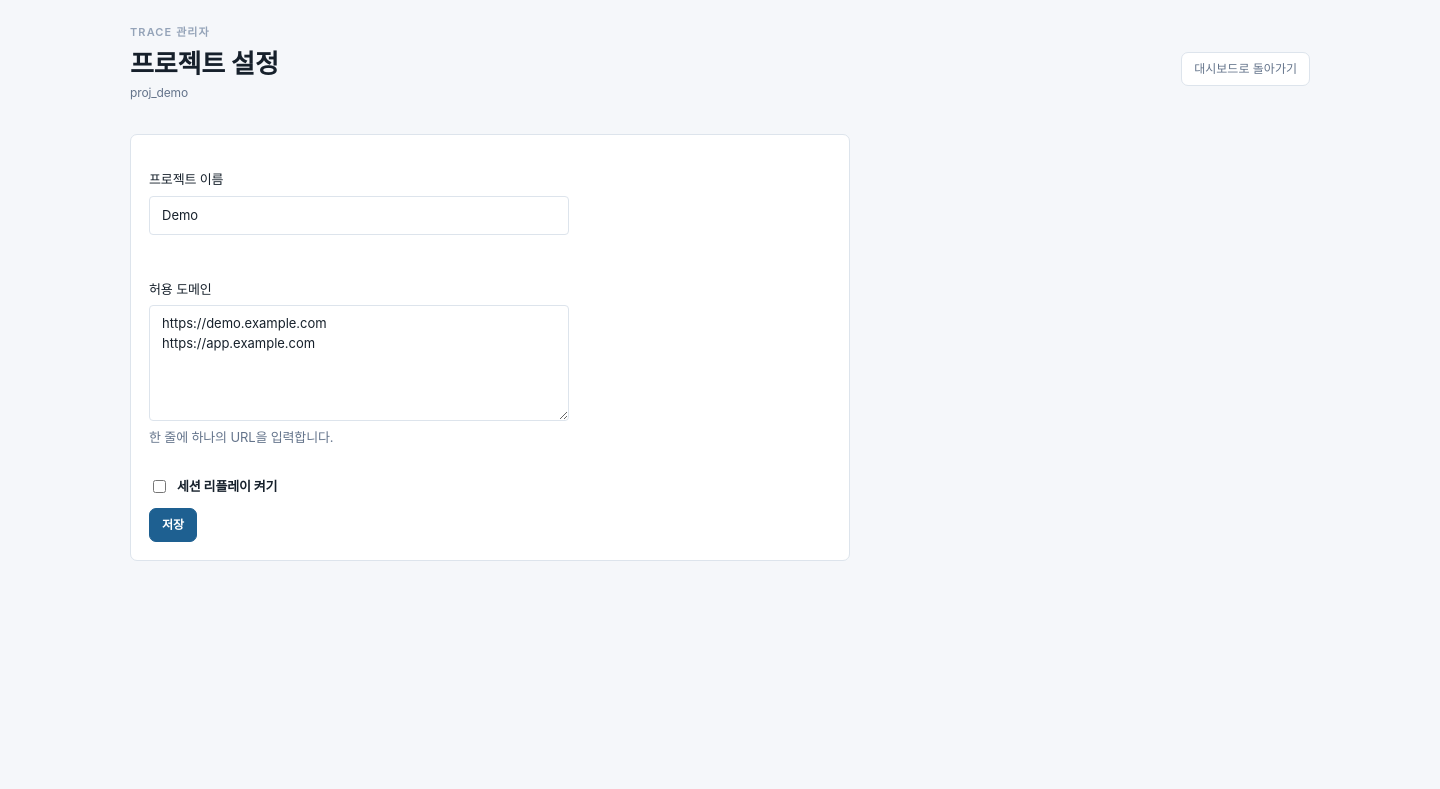
Test: ProjectSettingsPage › 리플레이를 켜면 경고와 마스킹 셀렉터 입력이 나타난다
The image size is (1440, 789).
Expected: the field labelled "마스킹 셀렉터" is not shown
Click the checkbox labelled "세션 리플레이 켜기" at (160, 486), box [153, 480, 166, 492]
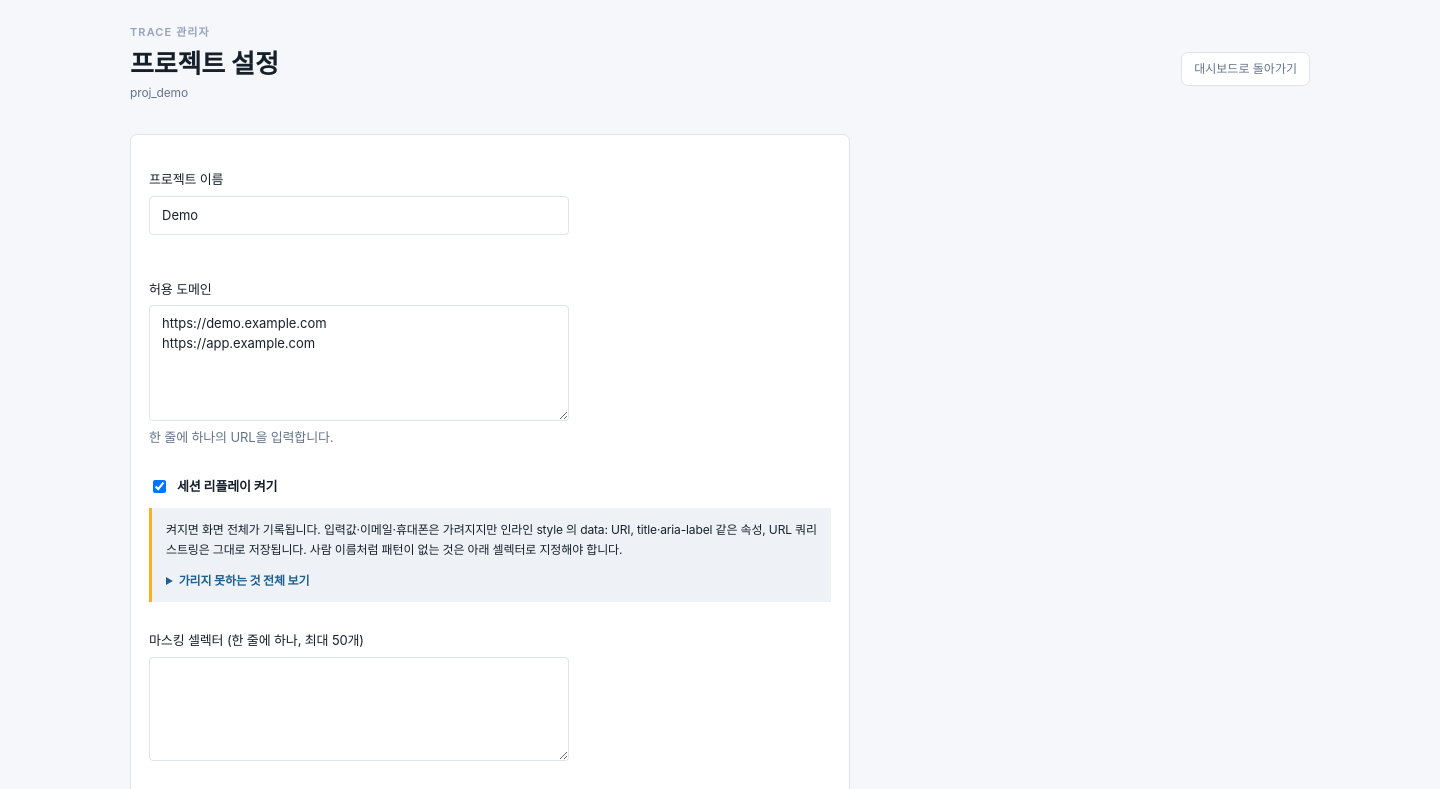
Expected: the text box labelled "마스킹 셀렉터 (한 줄에 하나, 최대 50개)" is shown, [149, 657, 569, 761]
Expected: the text "화면 전체가 기록됩니다" is shown, [166, 522, 817, 557]
